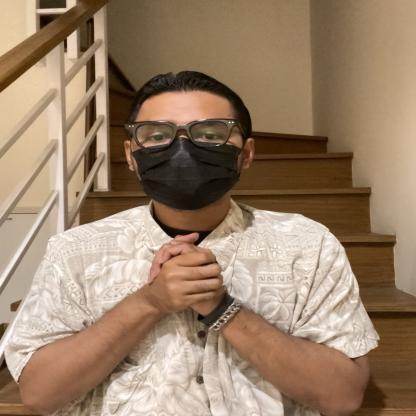Grieve: (40, 216, 336, 360)
